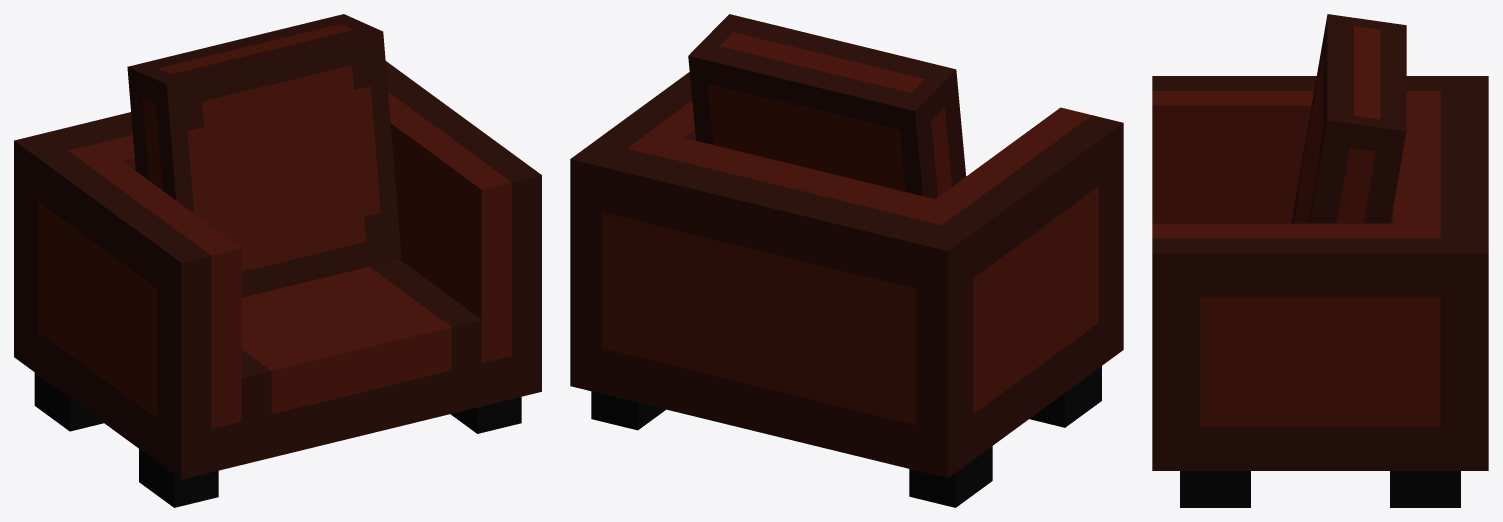
File: armchair (2) 1.fbx
3 renders of one model, left to right at view 1: azimuth 30°, elevation 25°; view 2: azimuth 150°, elevation 25°; view 3: azimuth 270°, elevation 25°, orthographic. The views are drawn at different scales.
Visible parts, largest first — view 1: Armchair; view 2: Armchair; view 3: Armchair.
Boxes of the visible parts, bbox=[...] form: Armchair: bbox=[14, 14, 541, 507]; Armchair: bbox=[570, 14, 1123, 507]; Armchair: bbox=[1152, 14, 1488, 507].
Size of the model in its own units: 1.29 by 1.21 by 1.04.
